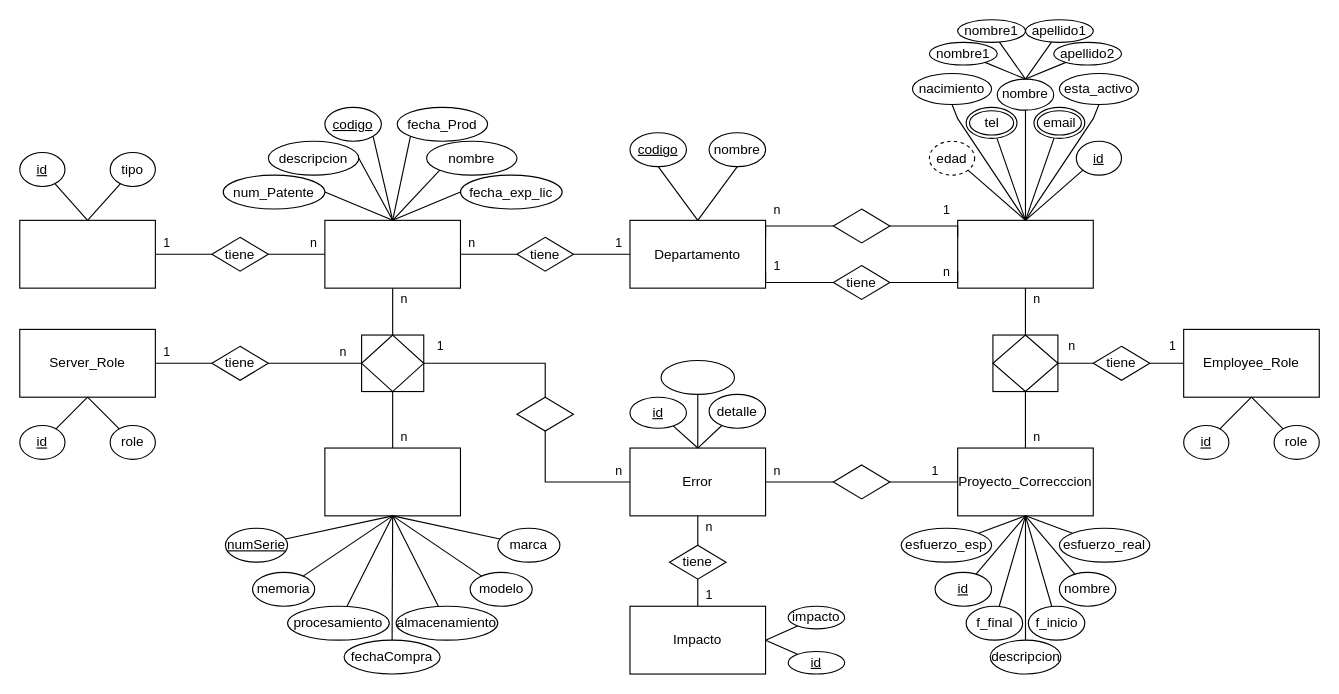
Image size: 1339x694. Some labels were removed from this diagram. The centre of each missing label's shape, as x and y in pixels:
"App" belongs at pixel 392 253.
"App_Type" belongs at pixel 87 253.
"corrige" belongs at pixel 861 481.
"desarrollo" belongs at pixel 1025 363.
"dirige" belongs at pixel 861 225.
"Empleado" belongs at pixel 1025 253.
"fecha_hora" belongs at pixel 697 376.
"hosted" belongs at pixel 392 363.
"ocurre" belongs at pixel 544 413.
"Servidor" belongs at pixel 392 481.
